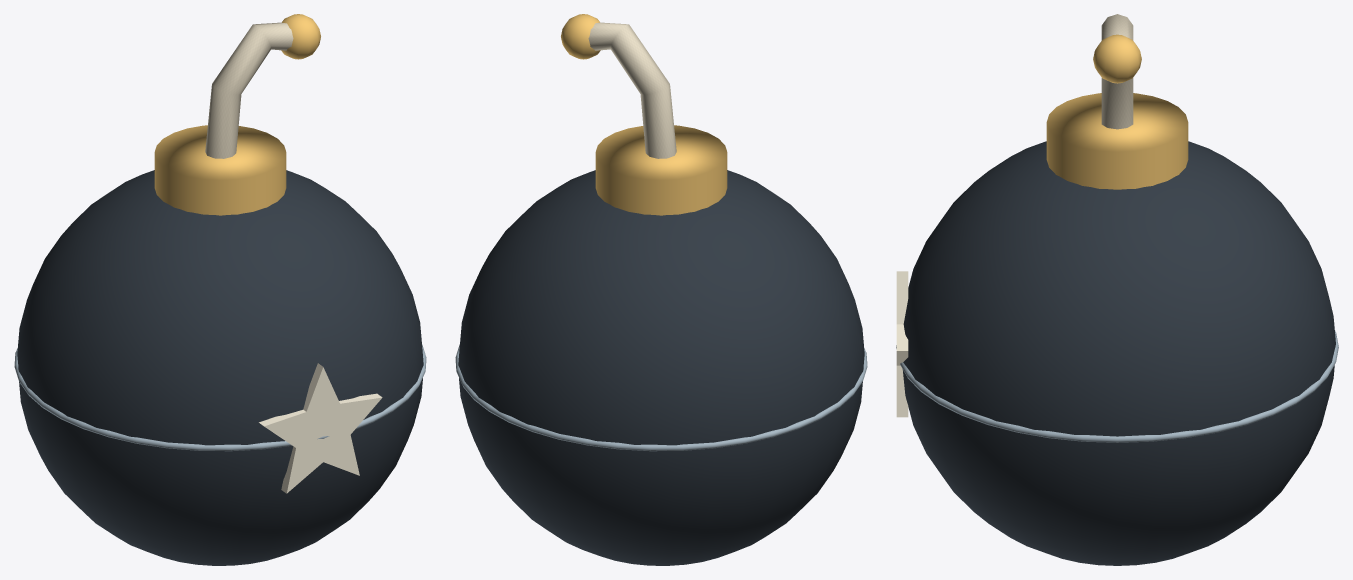
Rendered from BOMB.glb.
The picture shows the model from 3 angles, left to right: view 1: azimuth 30°, elevation 25°; view 2: azimuth 150°, elevation 25°; view 3: azimuth 270°, elevation 25°; orthographic projection. The views are drawn at different scales.
Parts seen in each view (by area): view 1: BOMB; view 2: BOMB; view 3: BOMB.
Part boxes in pixels (x1,y1,x2,y2): BOMB: [14, 14, 426, 565]; BOMB: [455, 14, 867, 565]; BOMB: [896, 14, 1338, 565].
Bounding box in the file's own units: 0.344 × 0.4718 × 0.344.
Materials: 5 (1 with a texture image).
